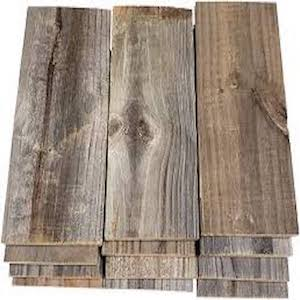combustible: (20, 4, 279, 292)
